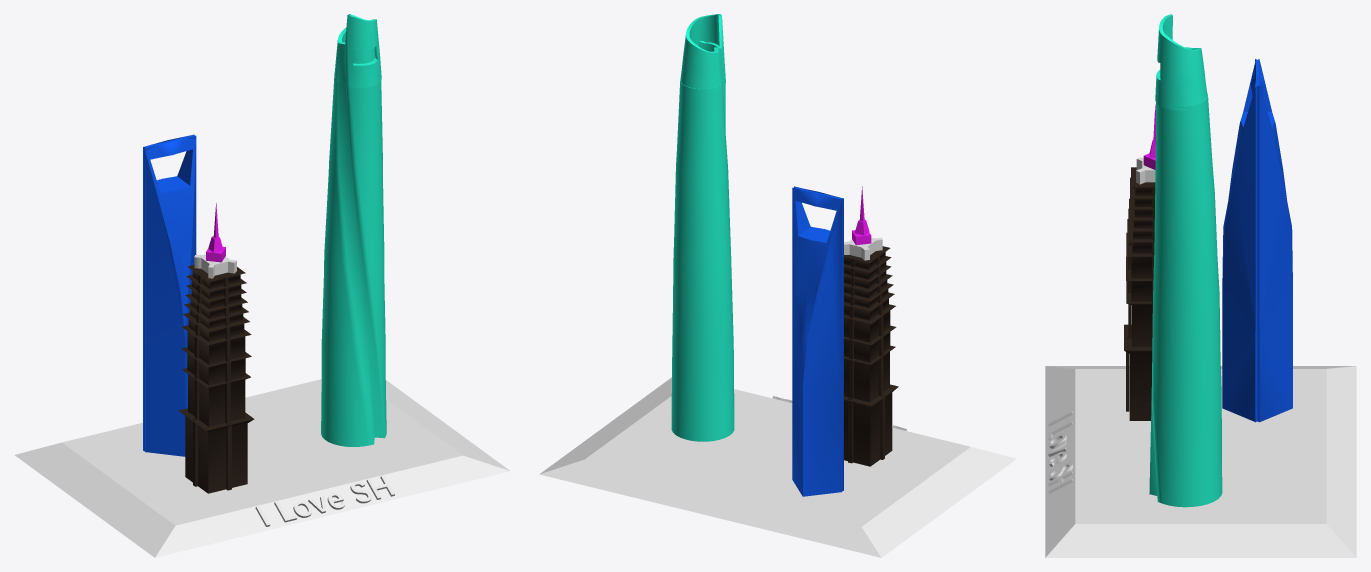
The model's file is Shanghai.FBX.
The picture shows the model from 3 angles, left to right: view 1: azimuth 30°, elevation 25°; view 2: azimuth 150°, elevation 25°; view 3: azimuth 270°, elevation 25°; orthographic projection. The views are drawn at different scales.
Visible parts, largest first — view 1: Box021, Donut001, Prism002, Box009, Box010, Text001, Box012, Box011, Box013, Box018, Line001, Box014 (+1 smaller); view 2: Box021, Donut001, Prism002, Box009, Box010, Box012, Box011, Box013; view 3: Box021, Donut001, Prism002, Box009, Text001, Box010, Box012, Box011, Box013, Line001, Box018.
Part boxes in pixels (bbox=[...]): Box021: bbox=[14, 379, 510, 557]; Donut001: bbox=[321, 14, 386, 446]; Prism002: bbox=[143, 134, 196, 456]; Box009: bbox=[179, 408, 254, 493]; Box010: bbox=[182, 368, 250, 426]; Text001: bbox=[255, 475, 394, 526]; Box012: bbox=[181, 325, 251, 364]; Box011: bbox=[181, 347, 251, 385]; Box013: bbox=[183, 312, 249, 341]; Box018: bbox=[187, 265, 245, 289]; Line001: bbox=[194, 254, 236, 278]; Box014: bbox=[184, 303, 248, 328]; Box021: bbox=[539, 377, 1016, 557]; Donut001: bbox=[671, 14, 734, 441]; Prism002: bbox=[792, 186, 843, 496]; Box009: bbox=[844, 384, 898, 466]; Box010: bbox=[844, 345, 895, 402]; Box012: bbox=[844, 304, 895, 342]; Box011: bbox=[844, 325, 896, 362]; Box013: bbox=[844, 292, 894, 320]; Box021: bbox=[1045, 366, 1356, 557]; Donut001: bbox=[1149, 14, 1222, 507]; Prism002: bbox=[1222, 59, 1292, 422]; Box009: bbox=[1124, 324, 1152, 420]; Text001: bbox=[1047, 410, 1073, 493]; Box010: bbox=[1126, 281, 1152, 347]; Box012: bbox=[1126, 232, 1153, 279]; Box011: bbox=[1126, 256, 1153, 302]; Box013: bbox=[1127, 219, 1154, 254]; Line001: bbox=[1136, 157, 1155, 184]; Box018: bbox=[1131, 167, 1155, 196].
Size of the model in its own units: 306 by 362 by 210.
